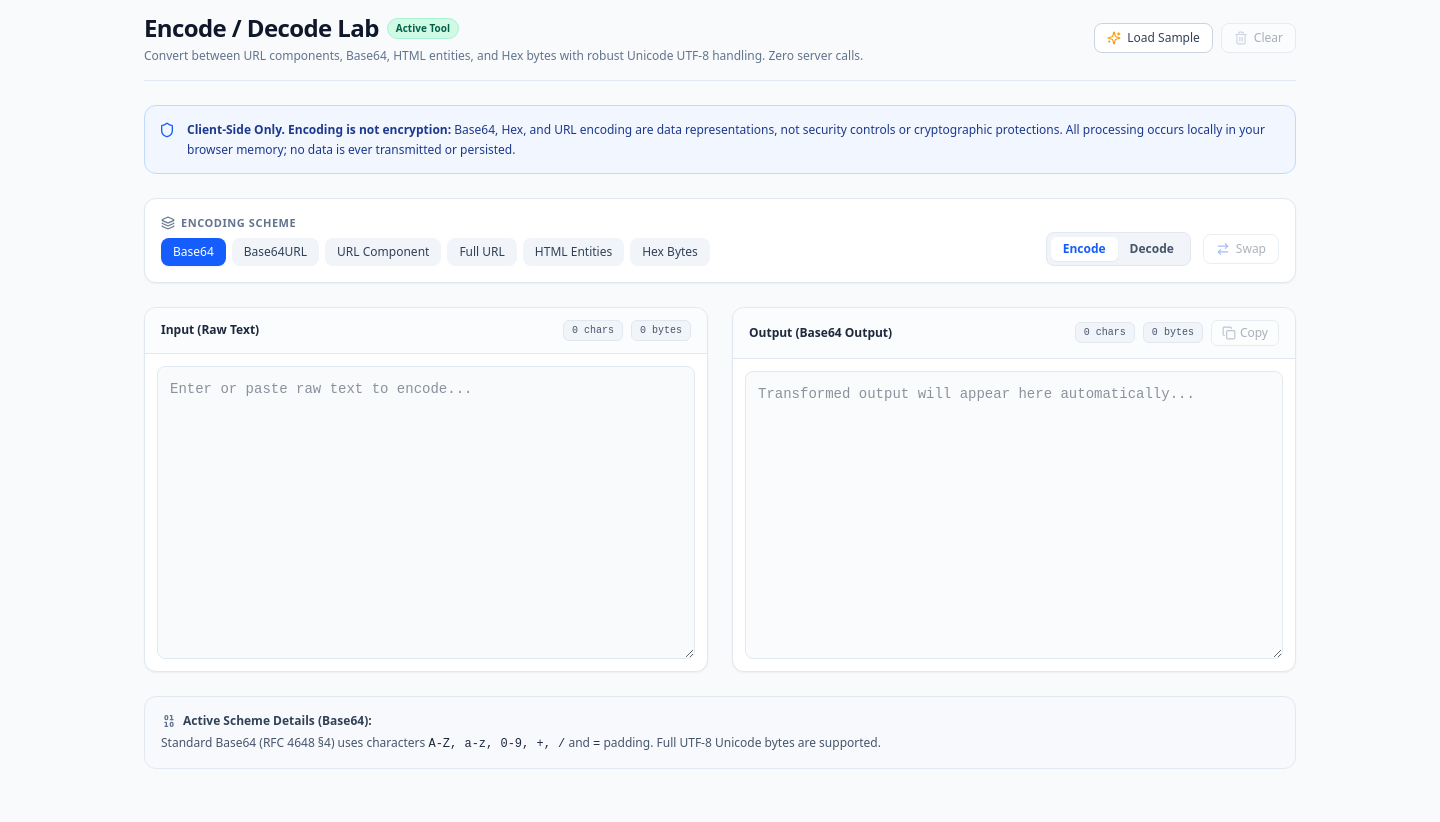
Test: EncodeDecodeLab Component › performs live encoding as user types raw text
The width and height of the screenshot is (1440, 822).
Type "Hello World" into the text box named "Input payload". click: (426, 512)
box: [157,366,695,658]
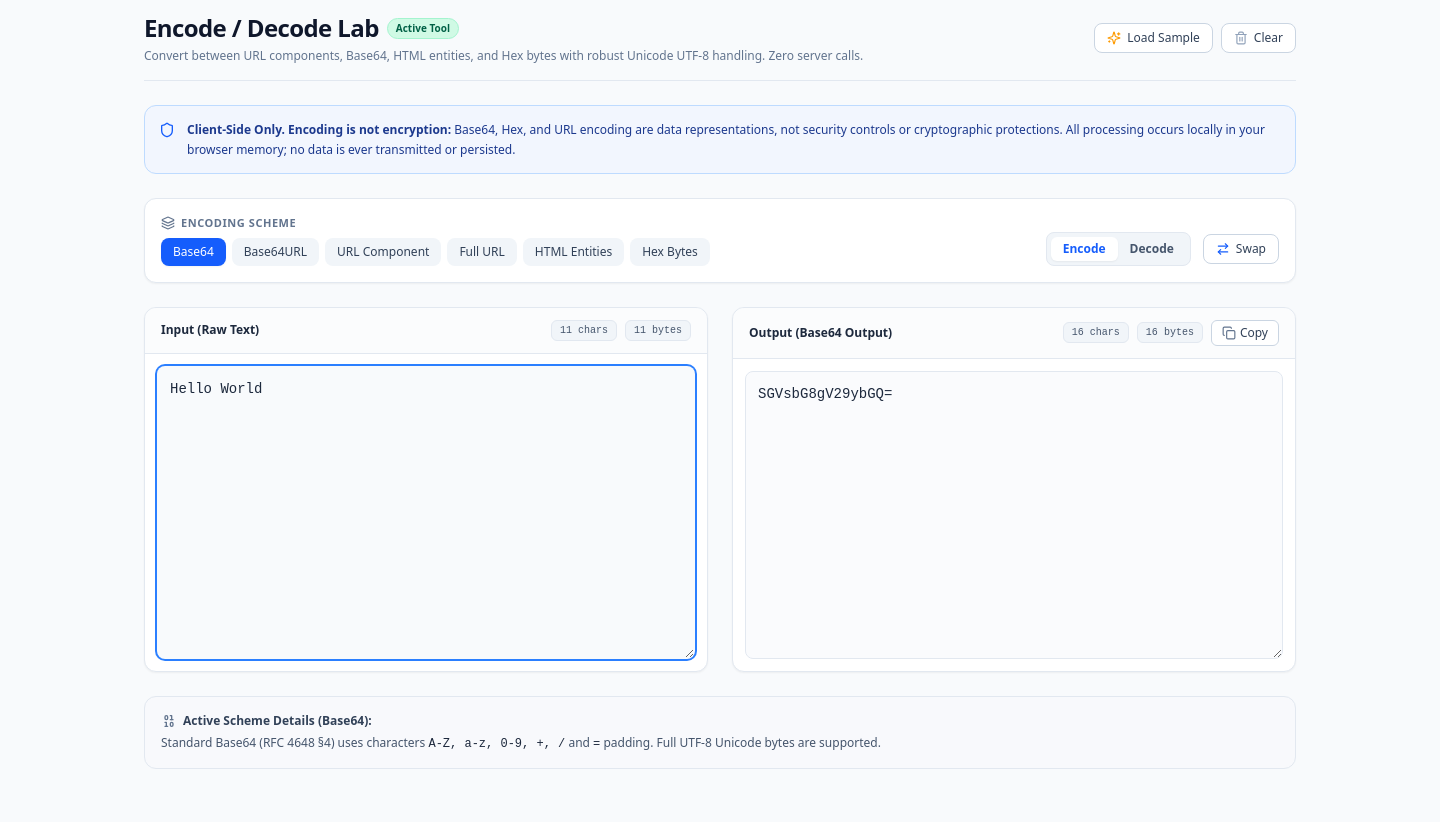
Expected: the text box named "Transformed output" holds "SGVsbG8gV29ybGQ=", [745,370,1283,658]
Expected: the text "11 chars" is shown, [551,320,617,340]
Expected: the text "11 bytes" is shown, [625,320,691,340]
